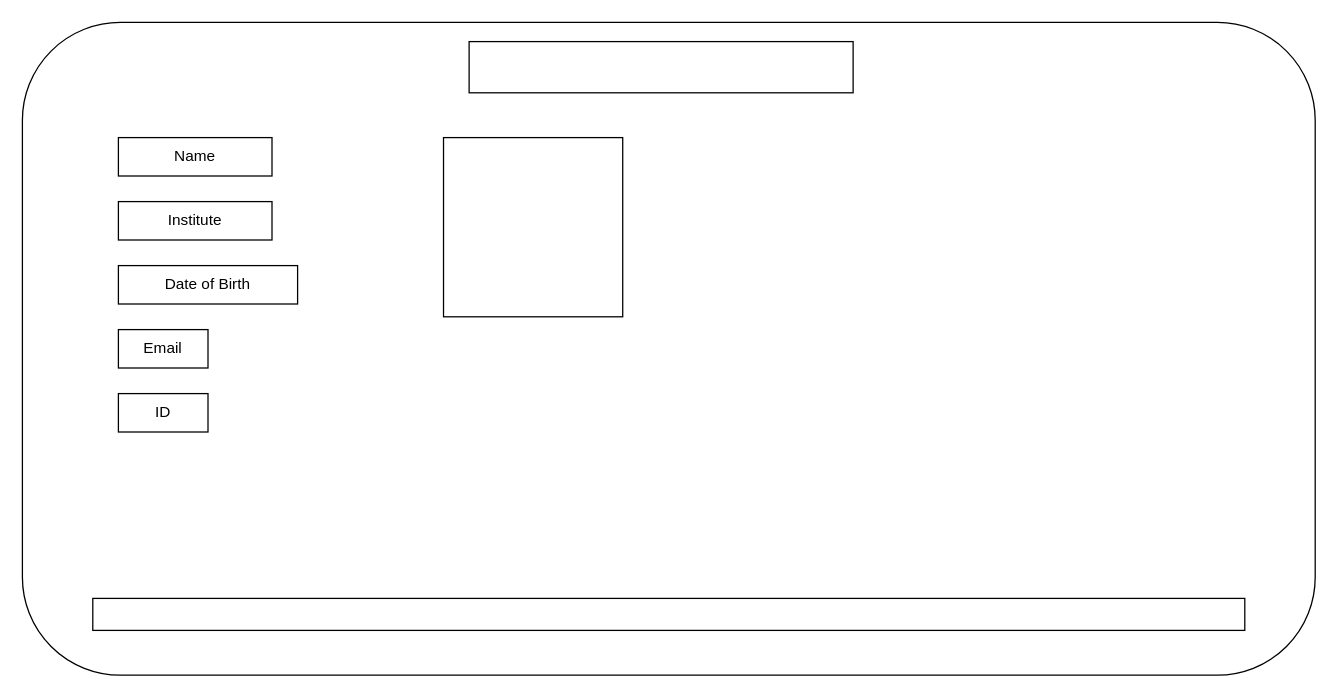
This 1338x698 diagram has some shape labels left out. Each missing label, with the box of its shape:
Footer: (92, 597, 1245, 630)
Photo: (442, 136, 623, 317)
Student Hub Portal: (468, 40, 853, 93)
